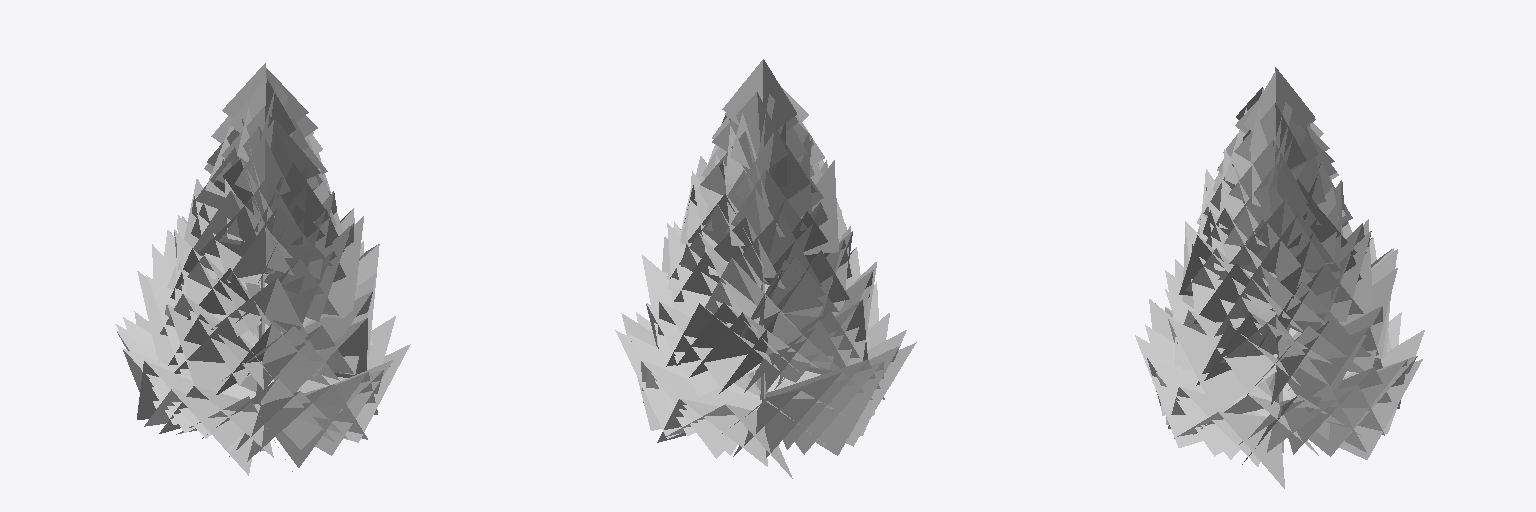
The model's file is fir.obj.
3 renders of one model, left to right at view 1: azimuth 30°, elevation 25°; view 2: azimuth 150°, elevation 25°; view 3: azimuth 270°, elevation 25°, orthographic.
Parts seen in each view (by area): view 1: fir; view 2: fir; view 3: fir.
Boxes of the visible parts, box(x1,y1,x2,y2) form: fir: box(115, 63, 410, 475); fir: box(615, 59, 916, 478); fir: box(1135, 67, 1424, 488).
Bounding box in the file's own units: 3.31 × 4.91 × 3.34.